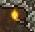torchT: (0, 1, 35, 32)
